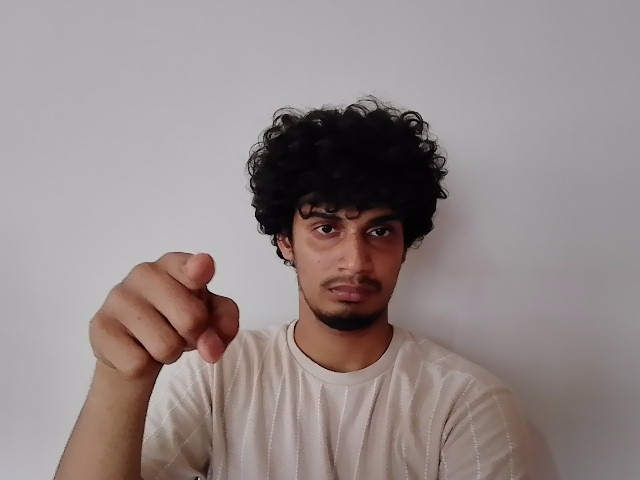you: (84, 247, 249, 372)
